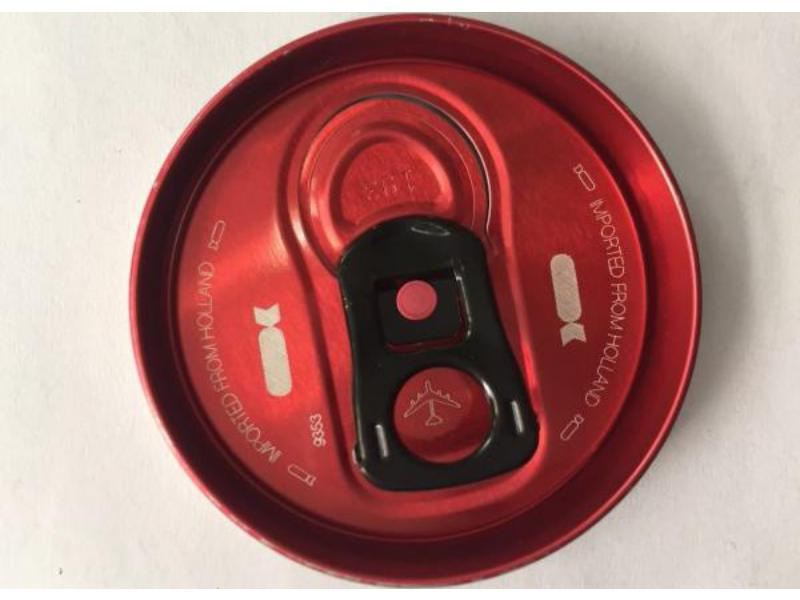can: (91, 10, 734, 600)
